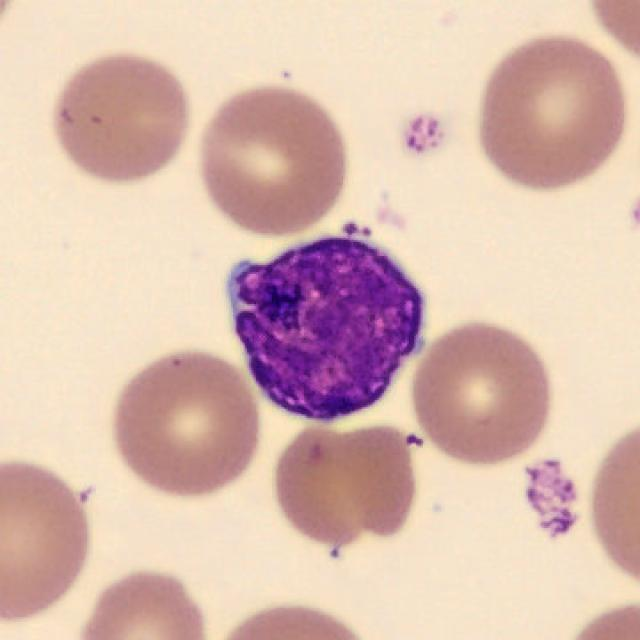Linfocito: (226, 238, 423, 425)
